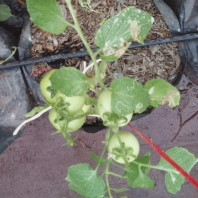tomato: (34, 66, 91, 112), (104, 130, 150, 168), (99, 87, 136, 126), (47, 107, 90, 135)
